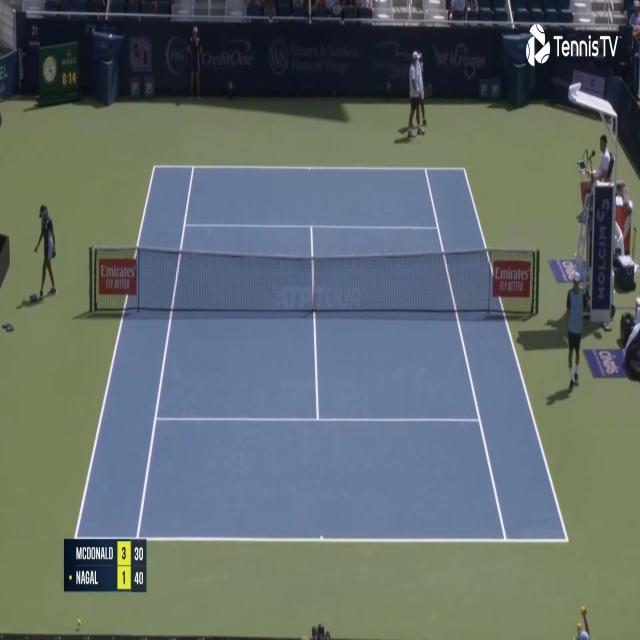tennis-player: (406, 46, 427, 141)
